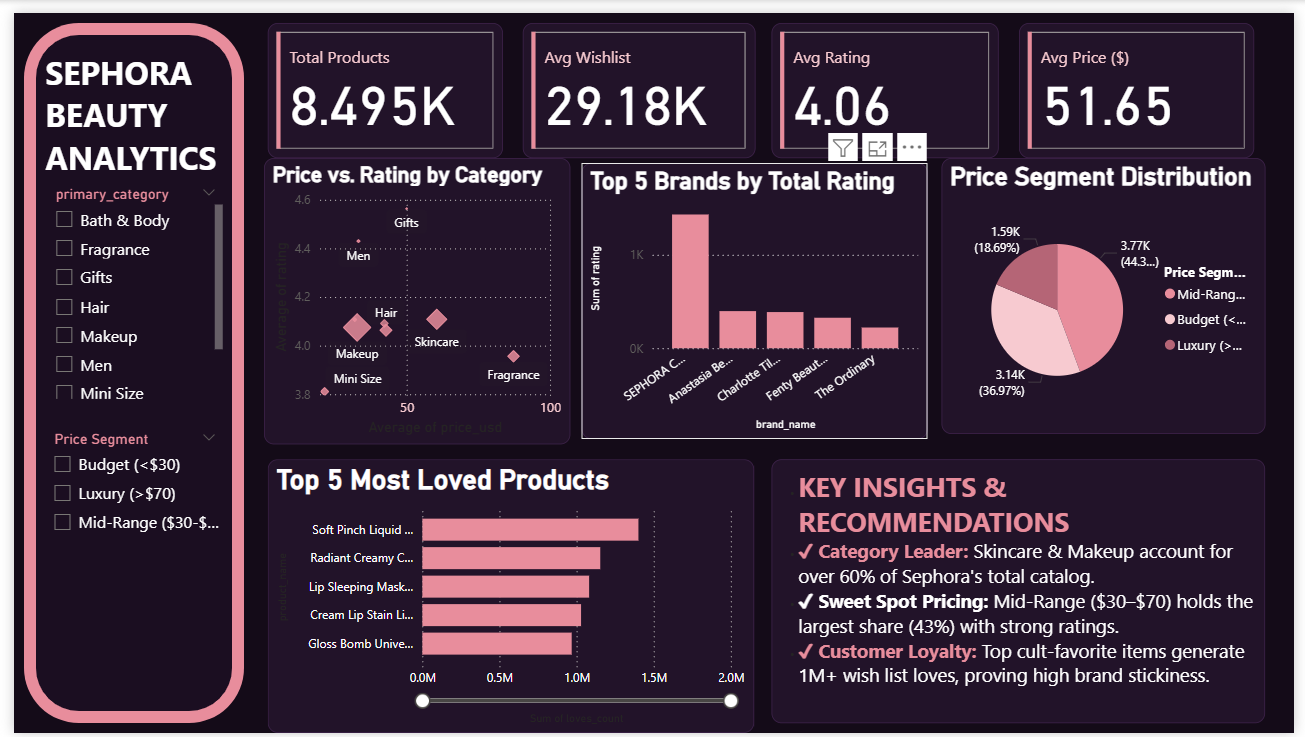

The dashboard page shown, as its layout file describes it:
{"tool":"powerbi","page":{"name":"Page 1","canvas":[1280,720],"ordinal":0},"visuals":[{"type":"shape","box":[10,10,220,700],"z":0},{"type":"textbox","box":[26.5,32.6,220.8,144.8],"z":1000},{"type":"slicer","fields":{"Values":["archive (7).primary_category"]},"box":[28.8,167.4,185.2,223.7],"z":2000},{"type":"slicer","fields":{"Values":["archive (7).Price Segment"]},"box":[27.4,413,186.6,150.9],"z":3000},{"type":"cardVisual","fields":{"Data":["Count(archive (7).product_id)"]},"box":[253.8,10,235,135],"z":4000},{"type":"cardVisual","fields":{"Data":["Avg(archive (7).loves_count)"]},"box":[508.8,10,232.5,135],"z":5000},{"type":"cardVisual","fields":{"Data":["Avg(archive (7).rating)"]},"box":[757.5,10,227.5,135],"z":6000},{"type":"cardVisual","fields":{"Data":["Avg(archive (7).price_usd)"]},"box":[1005,10,235,135],"z":7000},{"type":"scatterChart","title":"Price vs. Rating by Category","fields":{"X":["Avg(archive (7).price_usd)"],"Y":["Avg(archive (7).rating)"],"Size":["Sum(archive (7).loves_count)"],"Category":["archive (7).primary_category"]},"box":[250,145,306.2,286.2],"z":8000},{"type":"clusteredBarChart","title":"Top 5 Most Loved Products","fields":{"Category":["archive (7).product_name"],"Y":["Sum(archive (7).loves_count)"]},"box":[253.8,446.2,486.2,273.8],"z":10000},{"type":"pieChart","title":"Price Segment Distribution","fields":{"Category":["archive (7).Price Segment"],"Y":["Count(archive (7).product_id)"]},"box":[927.5,145,323.8,276.2],"z":12000},{"type":"clusteredColumnChart","title":"Top 5 Brands by Total Rating","fields":{"Category":["archive (7).brand_name"],"Y":["Sum(archive (7).rating)"]},"box":[567.5,150,346.2,276.2],"z":13000},{"type":"textbox","box":[757.5,446.2,493.8,263.8],"z":14000}]}

Visuals, with their boxes in screenshot pixels (x1, y1, x2, y2), scaled from the page's 1280x720 canvas onto the 1305x737 screenshot:
shape: locate(10, 10, 234, 727)
textbox: locate(27, 33, 252, 182)
slicer - archive (7).primary_category: locate(29, 171, 218, 400)
slicer - archive (7).Price Segment: locate(28, 423, 218, 577)
cardVisual - Count(archive (7).product_id): locate(259, 10, 498, 148)
cardVisual - Avg(archive (7).loves_count): locate(519, 10, 756, 148)
cardVisual - Avg(archive (7).rating): locate(772, 10, 1004, 148)
cardVisual - Avg(archive (7).price_usd): locate(1025, 10, 1264, 148)
"Price vs. Rating by Category" scatterChart: locate(255, 148, 567, 441)
"Top 5 Most Loved Products" clusteredBarChart: locate(259, 457, 754, 736)
"Price Segment Distribution" pieChart: locate(946, 148, 1276, 431)
"Top 5 Brands by Total Rating" clusteredColumnChart: locate(579, 154, 932, 436)
textbox: locate(772, 457, 1276, 727)
